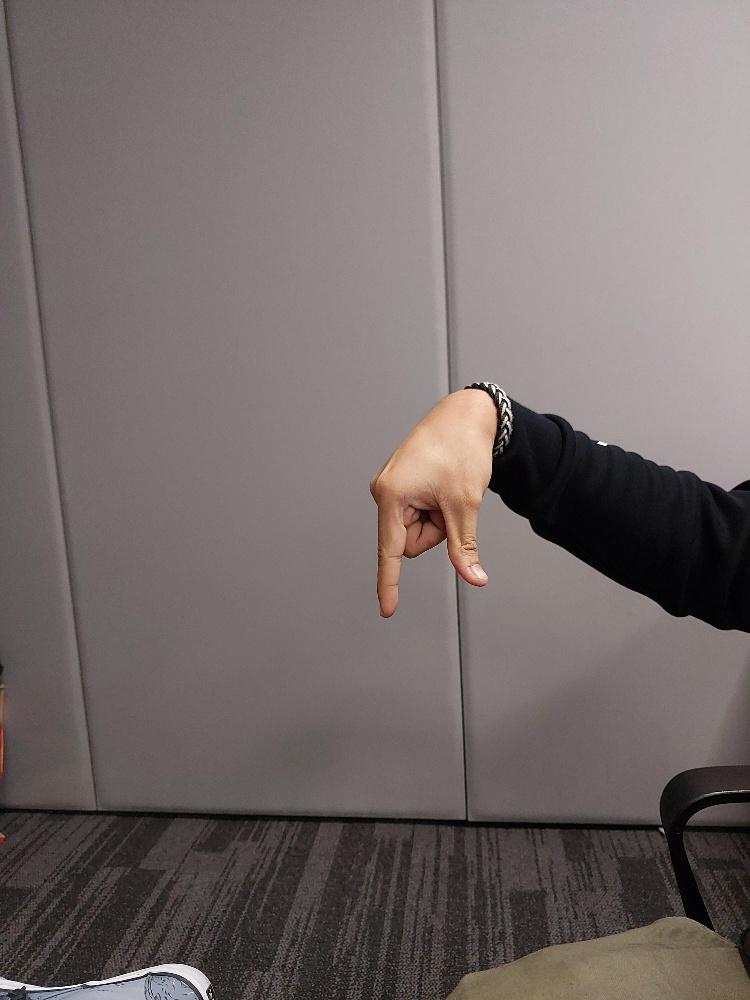q: (367, 380, 491, 618)
